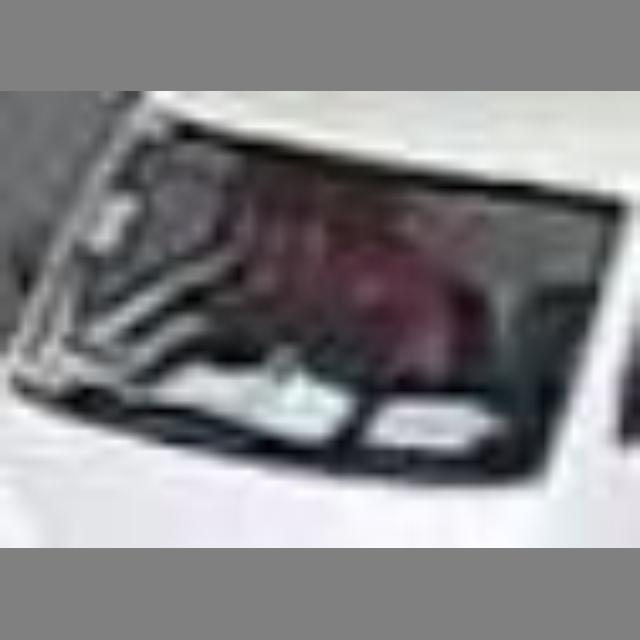tidak-pakai: (223, 162, 396, 406)
